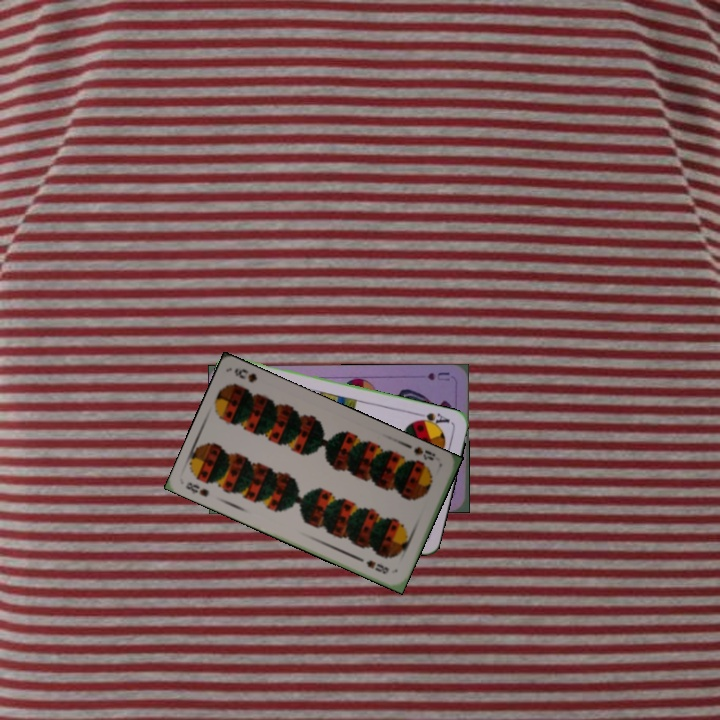S8: (182, 478, 212, 499), (410, 443, 438, 463)
SA: (411, 409, 452, 429)
SU: (423, 368, 452, 383)
